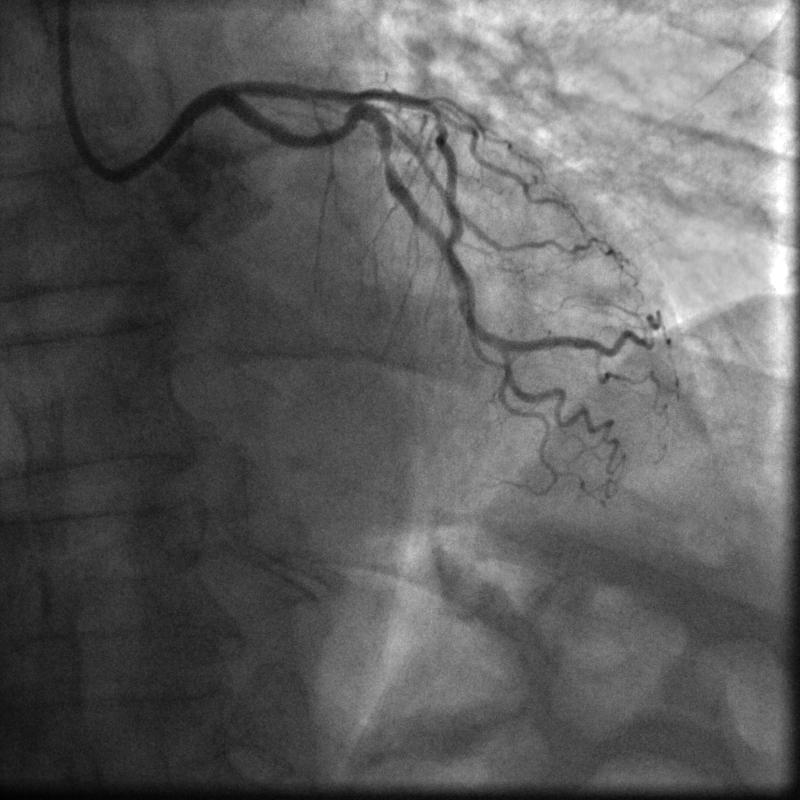Stenosis: (379, 147, 393, 166)
